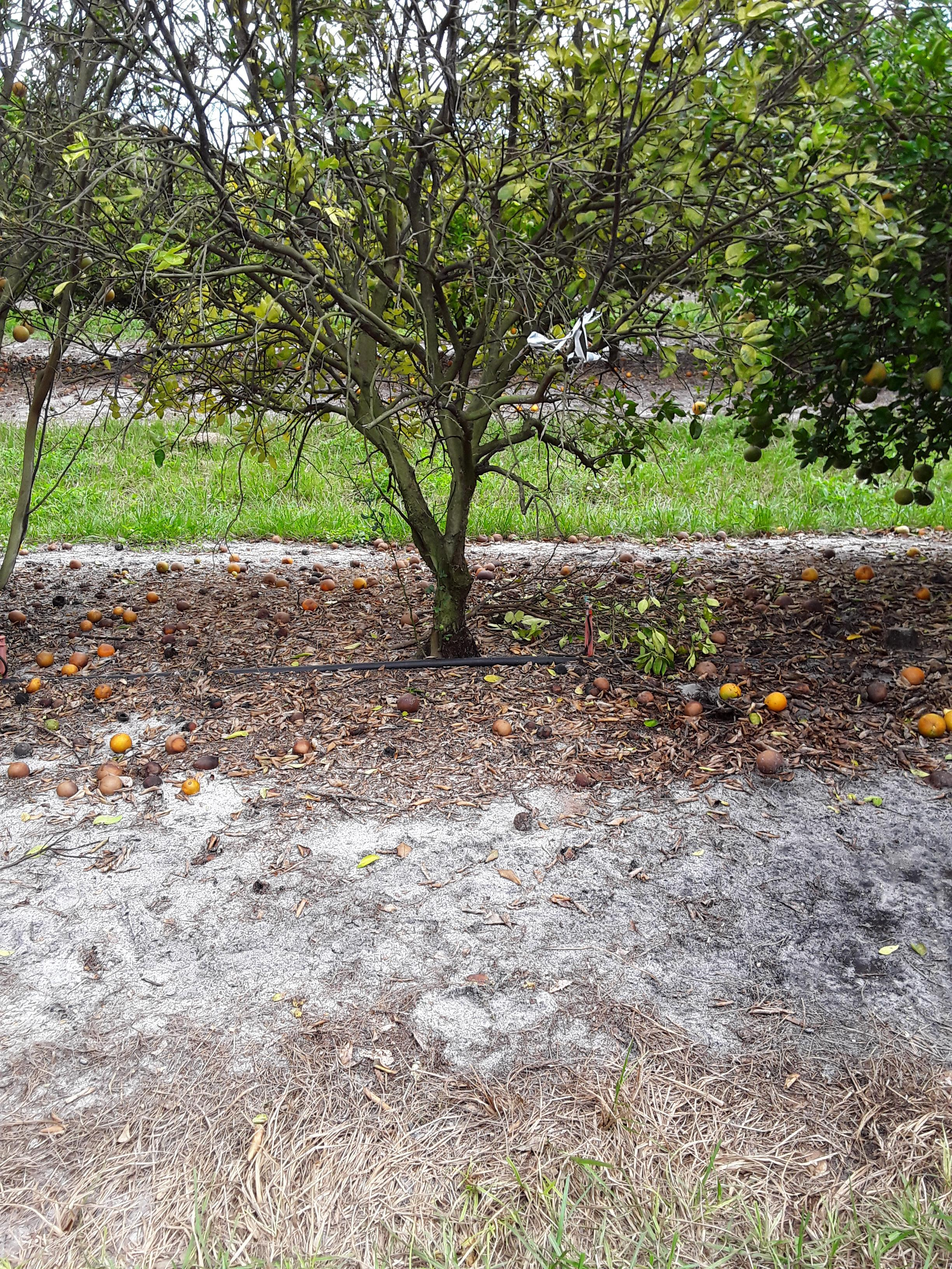fruit_on_ground: (855, 359, 889, 389), (917, 368, 948, 396), (300, 73, 331, 97), (765, 278, 790, 303), (74, 249, 98, 275), (741, 444, 765, 467), (270, 68, 292, 92), (912, 486, 938, 506), (913, 464, 937, 484), (882, 187, 901, 210), (12, 319, 31, 342), (833, 451, 854, 471), (893, 488, 915, 506), (105, 285, 122, 306), (22, 318, 40, 337), (14, 78, 28, 101), (10, 76, 26, 96), (854, 466, 874, 481), (0, 273, 12, 293)
fruit_on_tree: (753, 742, 782, 776), (98, 772, 126, 801), (7, 757, 33, 785), (921, 708, 946, 737), (54, 777, 81, 803), (680, 696, 705, 724), (396, 692, 423, 716), (95, 638, 118, 665), (93, 760, 125, 779), (866, 685, 889, 710), (489, 717, 514, 740), (108, 732, 135, 753), (192, 753, 220, 773), (67, 648, 90, 671), (696, 659, 720, 681), (718, 681, 740, 705), (767, 689, 789, 712), (181, 775, 202, 799), (35, 648, 56, 671), (290, 738, 313, 759), (513, 809, 534, 832), (901, 663, 921, 686), (634, 688, 658, 707), (140, 774, 166, 790), (299, 595, 320, 614), (141, 761, 163, 779), (592, 676, 615, 693), (710, 628, 729, 648), (164, 739, 183, 759), (805, 599, 826, 617), (206, 695, 224, 716), (14, 739, 35, 757), (573, 769, 595, 786), (24, 678, 47, 694), (690, 400, 710, 418), (76, 616, 96, 634), (750, 601, 771, 618), (7, 609, 28, 626), (660, 553, 682, 569), (740, 586, 763, 601), (904, 544, 922, 563), (854, 565, 872, 584), (399, 611, 420, 627), (614, 574, 639, 587), (274, 608, 292, 626), (774, 594, 797, 608), (66, 557, 86, 573), (85, 607, 105, 623), (58, 663, 80, 677), (798, 565, 816, 582), (820, 545, 839, 561), (274, 624, 291, 641), (1, 722, 20, 737), (535, 725, 554, 740), (11, 693, 32, 706), (558, 563, 574, 580), (318, 577, 335, 593), (95, 683, 111, 700), (225, 560, 243, 575), (351, 575, 366, 593), (552, 662, 570, 677), (46, 716, 61, 734), (154, 561, 172, 575), (180, 720, 199, 733), (263, 570, 278, 586), (417, 580, 433, 595), (53, 594, 68, 610), (176, 598, 192, 613), (122, 609, 139, 623), (382, 745, 399, 759), (893, 523, 911, 536), (289, 712, 307, 725), (712, 530, 728, 544), (145, 590, 161, 604), (162, 621, 179, 634), (478, 569, 496, 581), (367, 574, 385, 586), (98, 617, 116, 629), (281, 553, 296, 567), (170, 561, 186, 574), (920, 589, 933, 605), (390, 560, 407, 572), (254, 607, 271, 619), (184, 636, 201, 648), (701, 547, 719, 558), (775, 522, 789, 536), (163, 646, 177, 660), (483, 559, 498, 572), (32, 579, 47, 592), (706, 579, 719, 594), (310, 561, 326, 573), (278, 575, 290, 591), (522, 720, 538, 732), (915, 527, 932, 538), (618, 551, 631, 565), (676, 531, 691, 543), (691, 530, 703, 545), (590, 533, 605, 545), (343, 538, 358, 550), (409, 563, 424, 575), (563, 533, 579, 544), (634, 559, 650, 570), (353, 628, 369, 639), (161, 634, 177, 645), (38, 697, 55, 707), (376, 541, 390, 553), (628, 729, 642, 741), (492, 529, 503, 544), (228, 552, 243, 563), (307, 576, 322, 587), (112, 606, 127, 617), (117, 713, 133, 723), (472, 562, 485, 574), (408, 554, 422, 565), (67, 628, 78, 642), (348, 559, 363, 569), (475, 565, 490, 575), (392, 582, 408, 591), (93, 592, 109, 601), (651, 554, 664, 565), (248, 587, 259, 600), (7, 587, 18, 600), (258, 555, 272, 565), (329, 541, 342, 551), (271, 535, 285, 544), (371, 537, 385, 546), (508, 532, 520, 542), (63, 541, 75, 551), (113, 543, 125, 553), (31, 600, 43, 610), (576, 533, 589, 542), (217, 545, 230, 554), (301, 547, 313, 556), (485, 532, 495, 542), (198, 586, 209, 595), (297, 565, 311, 572), (934, 524, 946, 532), (477, 534, 489, 542), (17, 550, 32, 556), (388, 542, 399, 550), (47, 544, 58, 552), (404, 545, 416, 552), (194, 556, 202, 565), (112, 566, 121, 574), (80, 581, 89, 588), (120, 570, 130, 576), (121, 567, 130, 573)
